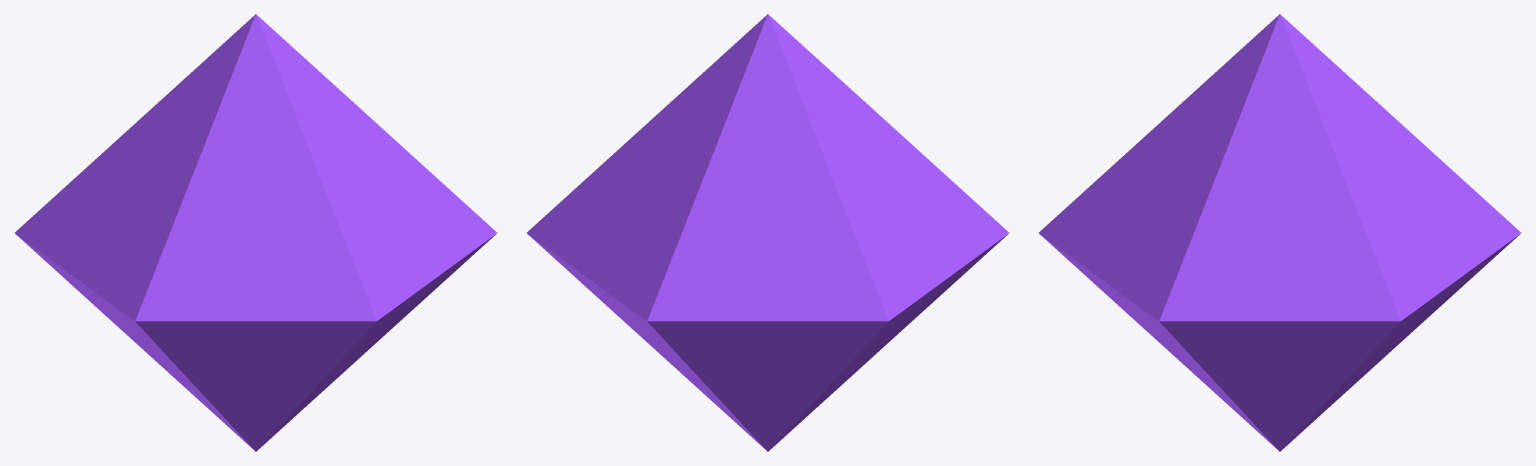
File: PofI.fbx
3 views of the same model, side by side, from view 1: azimuth 30°, elevation 25°; view 2: azimuth 150°, elevation 25°; view 3: azimuth 270°, elevation 25° (orthographic).
Parts seen in each view (by area): view 1: Cylinder; view 2: Cylinder; view 3: Cylinder.
Boxes of the visible parts, <box> form: Cylinder: <box>15,14,496,451</box>; Cylinder: <box>527,14,1008,451</box>; Cylinder: <box>1039,14,1520,451</box>.
Bounding box in the file's own units: 173 × 200 × 200.
